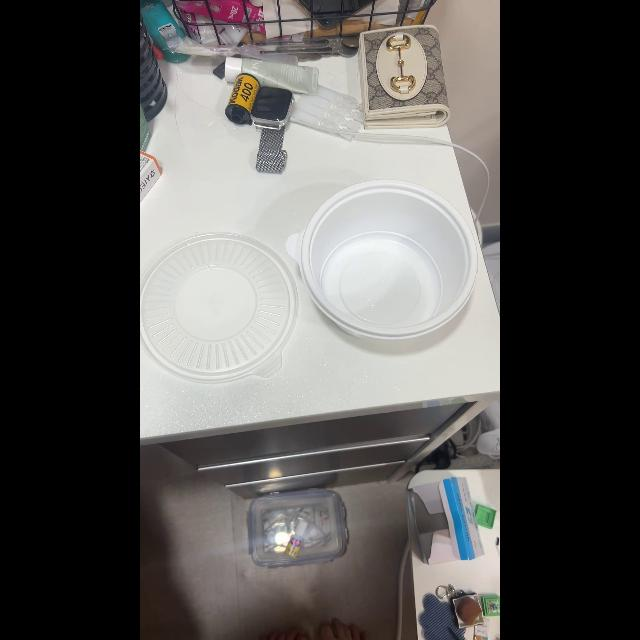clean: (307, 177, 481, 343), (144, 232, 300, 381)
